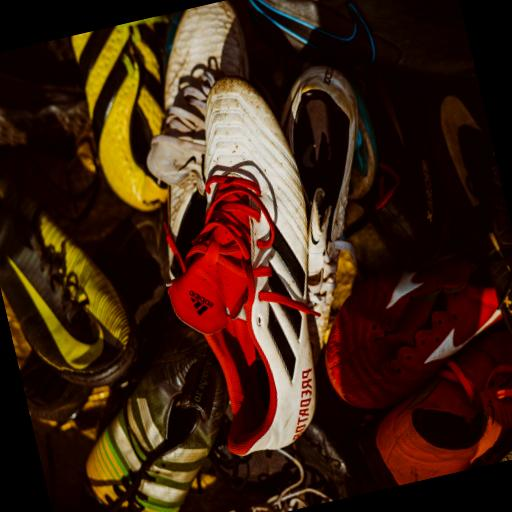shoe: (168, 77, 315, 454), (0, 169, 137, 387), (147, 0, 248, 276), (86, 322, 227, 511), (325, 256, 500, 408), (280, 66, 375, 344), (366, 331, 511, 489), (429, 82, 511, 334), (71, 16, 167, 211), (248, 0, 475, 80), (363, 70, 447, 270), (201, 423, 360, 511), (366, 158, 447, 270), (94, 206, 169, 324), (94, 207, 168, 324), (201, 421, 299, 494), (0, 71, 90, 146), (19, 351, 91, 422), (0, 36, 82, 87), (347, 76, 378, 200), (468, 429, 511, 469), (54, 507, 71, 511)
